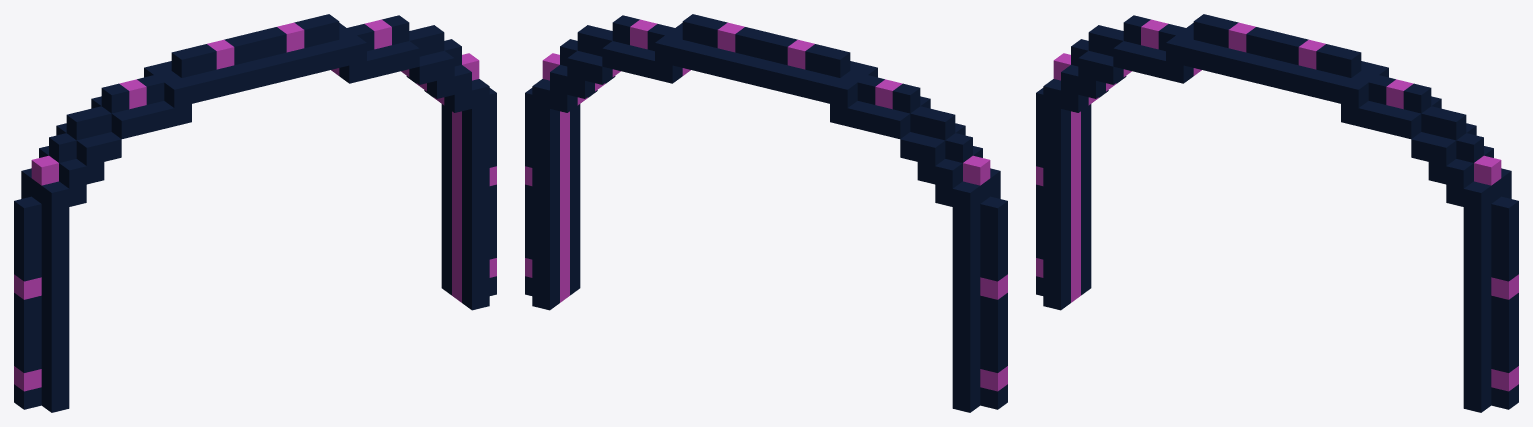
The model's file is SM_Road_JMGatePink1.fbx.
3 renders of one model, left to right at view 1: azimuth 30°, elevation 25°; view 2: azimuth 150°, elevation 25°; view 3: azimuth 330°, elevation 25°, orthographic.
Parts seen in each view (by area): view 1: SM_Road_JMGatePink1; view 2: SM_Road_JMGatePink1; view 3: SM_Road_JMGatePink1.
Boxes of the visible parts, left/top/right/bottom form: SM_Road_JMGatePink1: left=14, top=14, right=496, bottom=412; SM_Road_JMGatePink1: left=525, top=14, right=1007, bottom=412; SM_Road_JMGatePink1: left=1036, top=14, right=1518, bottom=412.
Bounding box in the file's own units: 540 × 340 × 60.
Materials: 2 (1 with a texture image).
